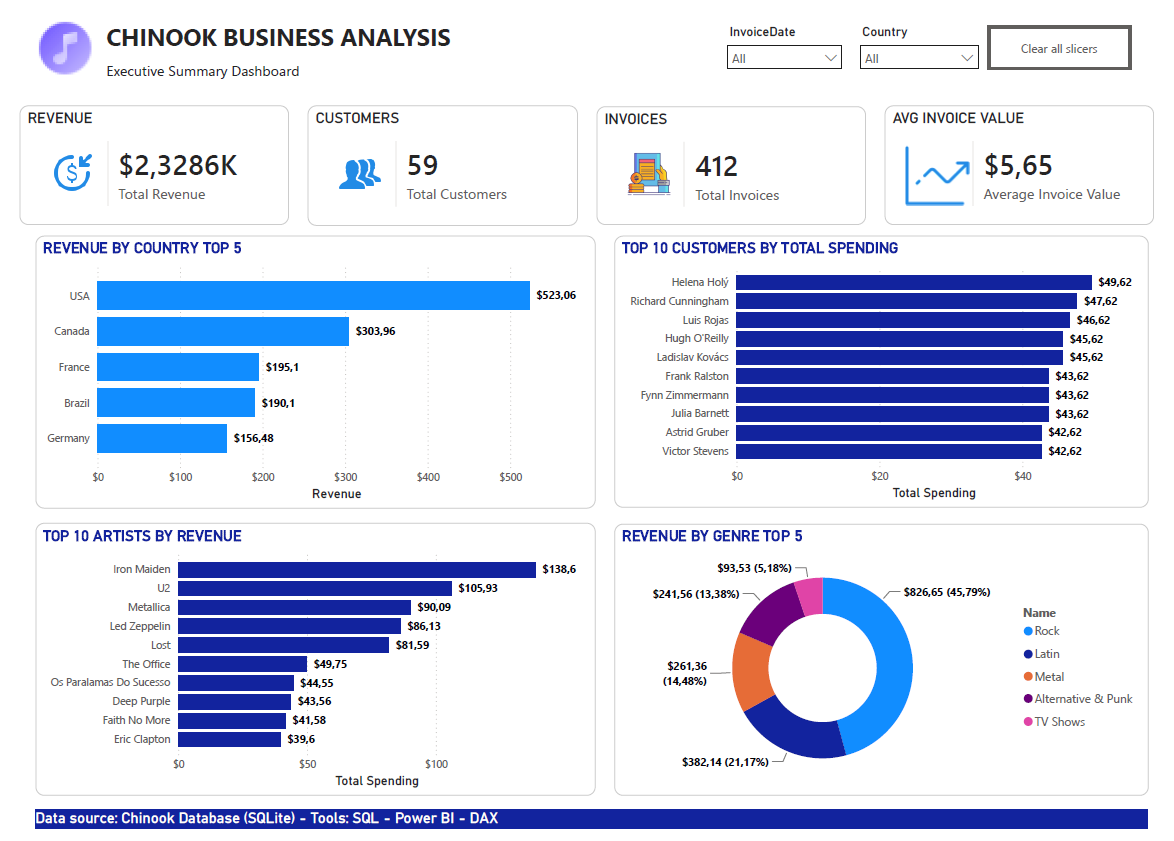

What the dashboard file says about the page in this screenshot:
{"tool":"powerbi","page":{"name":"Executive summary Dashboard","canvas":[1300,950],"ordinal":0},"visuals":[{"type":"group","id":"g1","title":"Group 1","box":[12,114,1280,135.7],"z":0},{"type":"cardVisual","title":"REVENUE","fields":{"Data":["DAX.Total Revenue"]},"box":[12,114.4,304.3,135],"z":0,"group":"g1"},{"type":"group","id":"g2","title":"Group 2","box":[21.7,13.3,503.3,83.3],"z":1000},{"type":"cardVisual","title":"CUSTOMERS","fields":{"Data":["DAX.Cusotmers"]},"box":[337.2,114,305,135.7],"z":1000,"group":"g1"},{"type":"image","box":[21.7,13.3,82.5,72.5],"z":2000,"group":"g2"},{"type":"donutChart","title":"REVENUE BY GENRE TOP 5","fields":{"Y":["DAX.Total Revenue"],"Category":["genres.Name"]},"box":[683.3,585.8,602.5,307.5],"z":2000},{"type":"cardVisual","title":"INVOICES","fields":{"Data":["DAX.Total Invoices"]},"box":[663.1,114.6,303.8,134.5],"z":3000,"group":"g1"},{"type":"barChart","title":"REVENUE BY COUNTRY TOP 5","fields":{"Category":["customers.Country"],"Y":["DAX.Total Revenue"]},"box":[30.3,261.3,632,308],"z":3000},{"type":"textbox","box":[104.2,13.3,421.2,46.2],"z":4000,"group":"g2"},{"type":"barChart","title":"TOP 10 CUSTOMERS BY TOTAL SPENDING","fields":{"Y":["DAX.Total Revenue"],"Category":["customers.Full Name"]},"box":[683.3,260.8,602.5,307.5],"z":4000},{"type":"cardVisual","title":"AVG INVOICE VALUE","fields":{"Data":["DAX.Average Invoice Value"]},"box":[987.7,114.4,304.3,135],"z":5000,"group":"g1"},{"type":"shape","title":"Data source: Chinook Database (SQLite) - Tools: SQL - Power BI - DAX","box":[30,907.5,1255,22.5],"z":5000},{"type":"textbox","box":[104.2,59.5,421.2,36.2],"z":6000,"group":"g2"},{"type":"barChart","title":"TOP 10 ARTISTS BY REVENUE","fields":{"Y":["DAX.Total Revenue"],"Category":["artists.Name"]},"box":[30.3,585.3,632,308],"z":6000},{"type":"slicer","fields":{"Values":["invoices.InvoiceDate.Variation.Date Hierarchy.Year"]},"box":[800,18,150,74],"z":7000},{"type":"slicer","fields":{"Values":["customers.Country"]},"box":[950,18,154,78],"z":8000},{"type":"actionButton","box":[1104,24,162,50],"z":9000}]}

Visuals, with their boxes in screenshot pixels (x1, y1, x2, y2), scaled from the page's 1300x950 canvas onto the 1174x841 screenshot:
"Group 1" group: bbox=(11, 101, 1167, 221)
"REVENUE" cardVisual: bbox=(11, 101, 286, 221)
"Group 2" group: bbox=(20, 12, 474, 86)
"CUSTOMERS" cardVisual: bbox=(305, 101, 580, 221)
image: bbox=(20, 12, 94, 76)
"REVENUE BY GENRE TOP 5" donutChart: bbox=(617, 519, 1161, 791)
"INVOICES" cardVisual: bbox=(599, 101, 873, 221)
"REVENUE BY COUNTRY TOP 5" barChart: bbox=(27, 231, 598, 504)
textbox: bbox=(94, 12, 474, 53)
"TOP 10 CUSTOMERS BY TOTAL SPENDING" barChart: bbox=(617, 231, 1161, 503)
"AVG INVOICE VALUE" cardVisual: bbox=(892, 101, 1167, 221)
"Data source: Chinook Database (SQLite) - Tools: SQL - Power BI - DAX" shape: bbox=(27, 803, 1160, 823)
textbox: bbox=(94, 53, 474, 85)
"TOP 10 ARTISTS BY REVENUE" barChart: bbox=(27, 518, 598, 791)
slicer - invoices.InvoiceDate.Variation.Date Hierarchy.Year: bbox=(722, 16, 858, 81)
slicer - customers.Country: bbox=(858, 16, 997, 85)
actionButton: bbox=(997, 21, 1143, 66)
